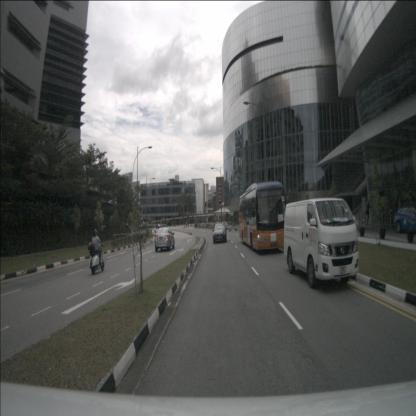vehicle-bus-rigid: (238, 182, 286, 251)
vehicle-car: (284, 198, 360, 289), (393, 206, 416, 234), (154, 227, 175, 253), (213, 223, 227, 244), (156, 223, 161, 230)
vehicle-motorcycle: (87, 230, 105, 276)
